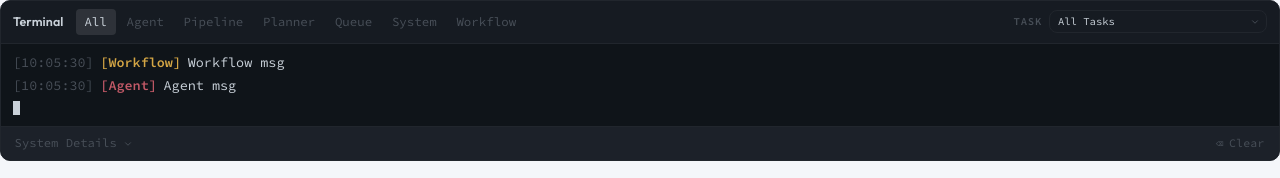
it: TerminalFeed › workflow events render under all and workflow tabs with workflow styling
expect the number of elements with class "terminal-line" is 2: met, box [13,54,284,71]; [13,76,236,94]
expect the text "[Workflow]" is shown: met, box [100,53,181,74]
Step 1. Click the tab "Workflow" → (486, 22), box [448,9,525,35]
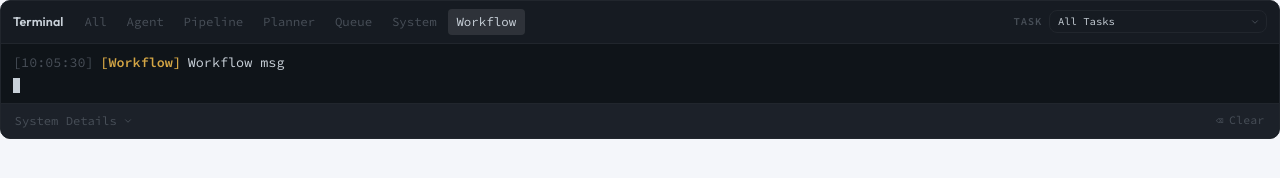
expect the text with class "terminal-message" reads "Workflow msg": met, box [188,54,284,71]
expect the number of elements with class "terminal-line" is 1: met, box [13,54,284,71]
